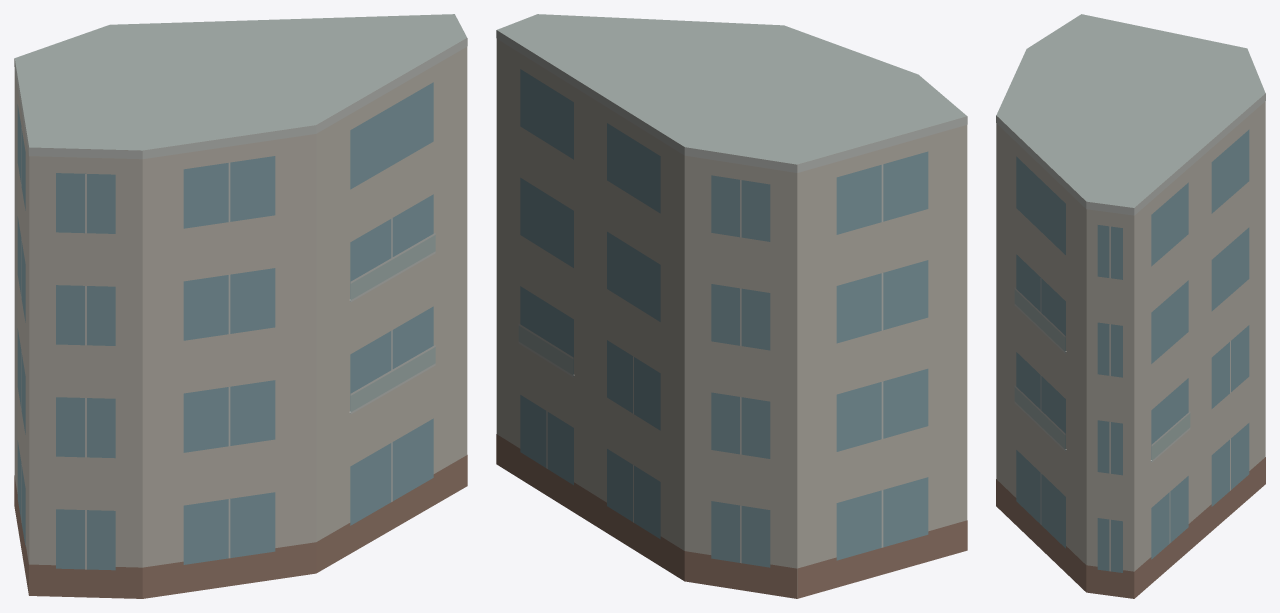
Rendered from survey-upis-32727872.glb.
3 views of the same model, side by side, from view 1: azimuth 30°, elevation 25°; view 2: azimuth 150°, elevation 25°; view 3: azimuth 270°, elevation 25° (orthographic). The views are drawn at different scales.
Visible parts, largest first — view 1: survey-upis-32727872.tmp; view 2: survey-upis-32727872.tmp; view 3: survey-upis-32727872.tmp.
Part boxes in pixels (left/top/right/bottom): survey-upis-32727872.tmp: left=14, top=14, right=467, bottom=598; survey-upis-32727872.tmp: left=496, top=14, right=967, bottom=598; survey-upis-32727872.tmp: left=996, top=14, right=1265, bottom=598.
Size of the model in its own units: 13.31 by 12.5 by 7.82.
